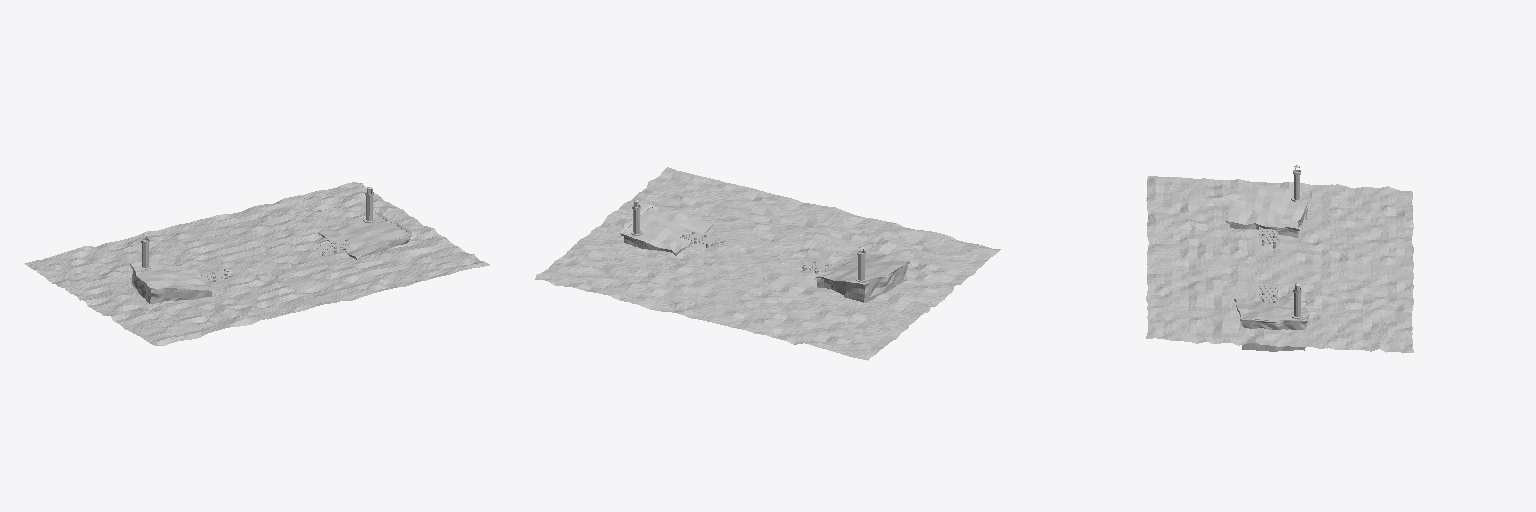
The model's file is far.obj.
The picture shows the model from 3 angles: view 1: azimuth 30°, elevation 25°; view 2: azimuth 150°, elevation 25°; view 3: azimuth 270°, elevation 25°; orthographic projection.
Parts seen in each view (by area): view 1: mar_Plane.002_Plane.003, tierra_2_Plane.006_Plane.000, tierra_1_Plane.006_Plane.007, pasto_1_Plane; view 2: mar_Plane.002_Plane.003, tierra_2_Plane.006_Plane.000, tierra_1_Plane.006_Plane.007, pasto_1_Plane; view 3: mar_Plane.002_Plane.003, tierra_1_Plane.006_Plane.007, tierra_2_Plane.006_Plane.000, pasto_3_Plane.001.
Boxes of the visible parts, x1=… form: mar_Plane.002_Plane.003: x1=25, y1=182, x2=489, y2=345; tierra_2_Plane.006_Plane.000: x1=319, y1=214, x2=411, y2=259; tierra_1_Plane.006_Plane.007: x1=130, y1=261, x2=214, y2=292; pasto_1_Plane: x1=132, y1=270, x2=211, y2=303; mar_Plane.002_Plane.003: x1=535, y1=167, x2=1000, y2=360; tierra_2_Plane.006_Plane.000: x1=620, y1=207, x2=712, y2=255; tierra_1_Plane.006_Plane.007: x1=814, y1=253, x2=909, y2=286; pasto_1_Plane: x1=817, y1=265, x2=907, y2=302; mar_Plane.002_Plane.003: x1=1146, y1=176, x2=1413, y2=352; tierra_1_Plane.006_Plane.007: x1=1226, y1=183, x2=1309, y2=230; tierra_2_Plane.006_Plane.000: x1=1234, y1=298, x2=1308, y2=324; pasto_3_Plane.001: x1=1235, y1=304, x2=1308, y2=351.
Bounding box in the file's own units: 49.97 × 11.58 × 34.44.